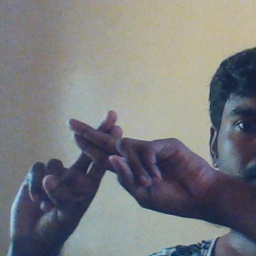F: (43, 104, 168, 201)
